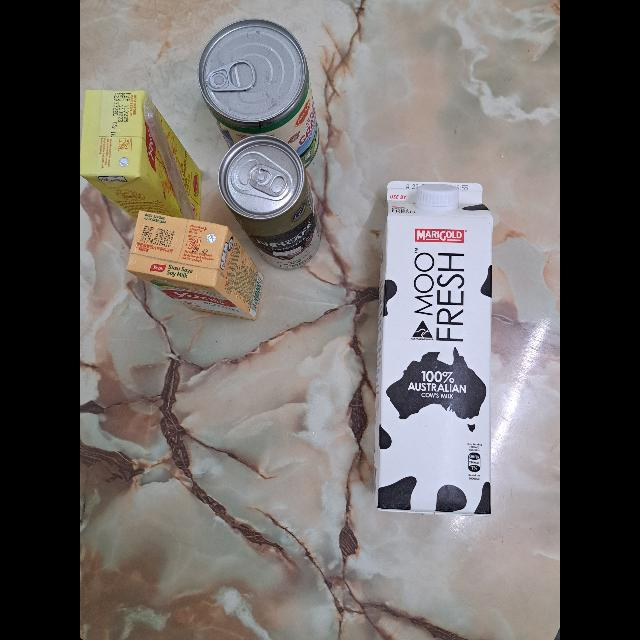aba de lata: (207, 60, 257, 92), (249, 164, 289, 196)
caixinha: (375, 180, 493, 514), (80, 90, 202, 220), (128, 210, 264, 320)
lata: (198, 19, 320, 169), (218, 136, 322, 270)
tampa plástica: (415, 184, 459, 212)
